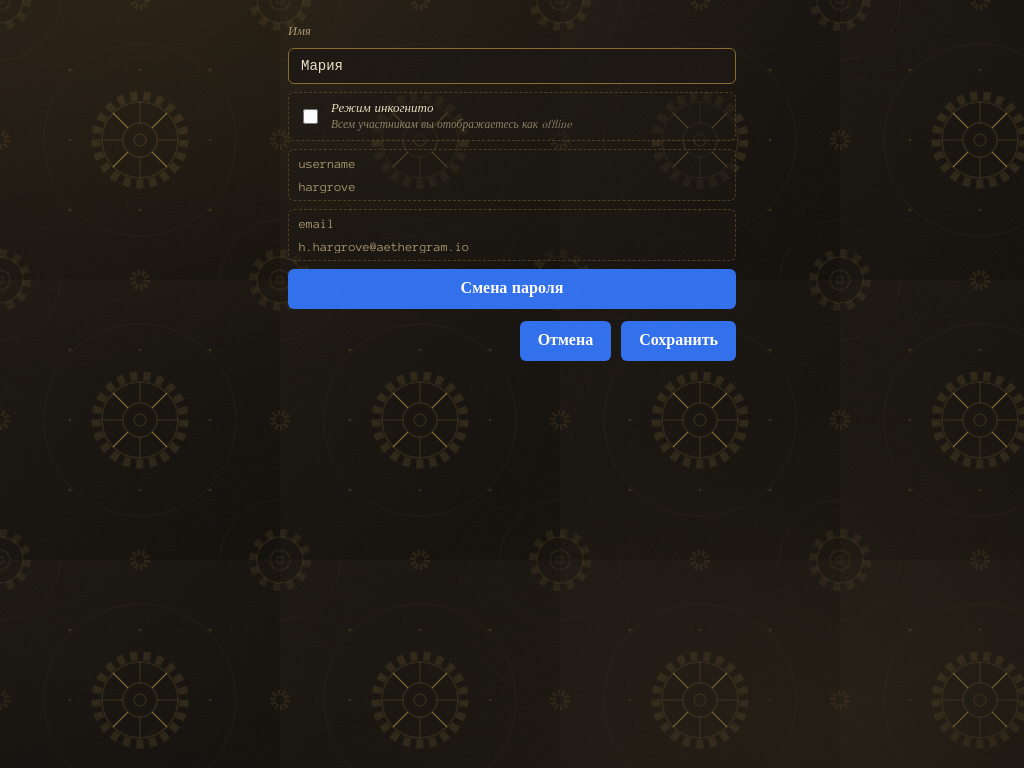
it: ProfileModal › saves №39 (name → null when cleared) and №38, toasts once with the chain name and closes
Clear the field labelled "Имя" at (512, 66), box [288, 48, 736, 84]
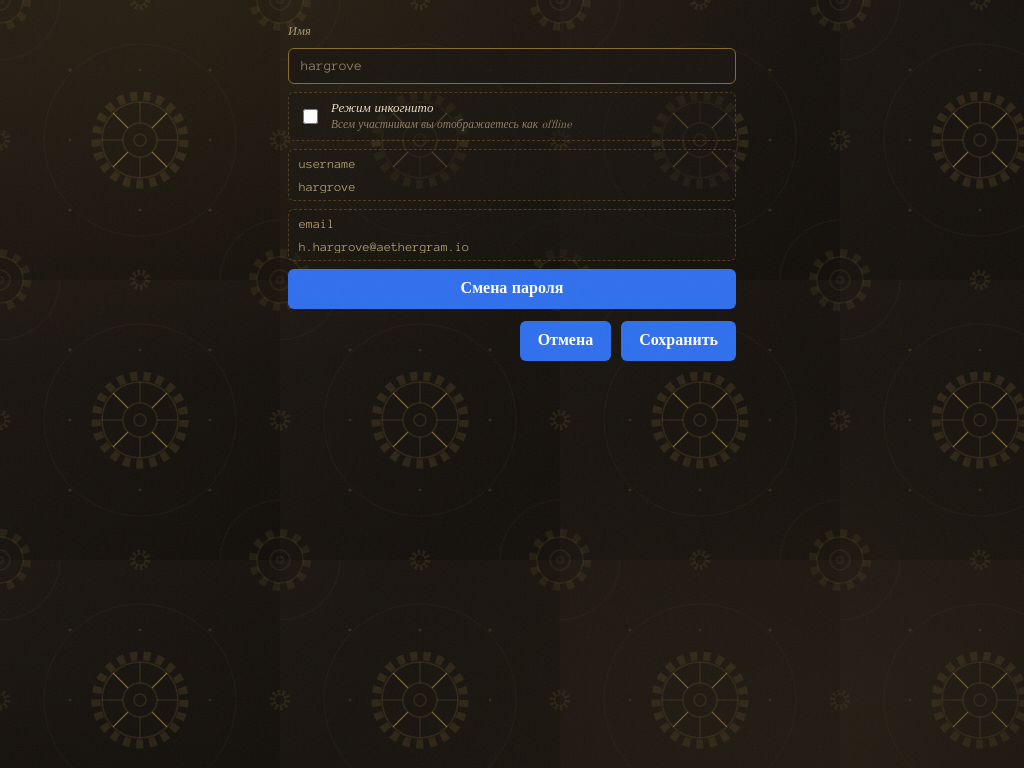
Click the checkbox labelled "Режим инкогнито Всем участникам вы отображаетесь как offline".
click(310, 116)  # box [303, 109, 318, 124]
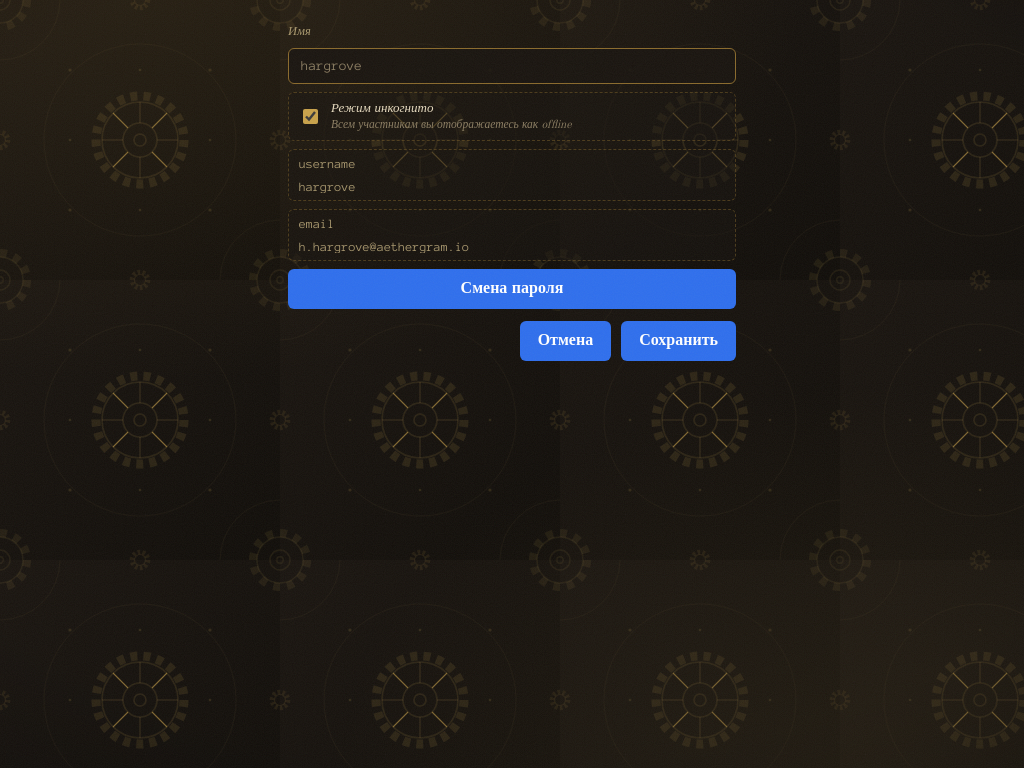
Click the button "Сохранить".
click(679, 341)  # box [621, 321, 736, 361]
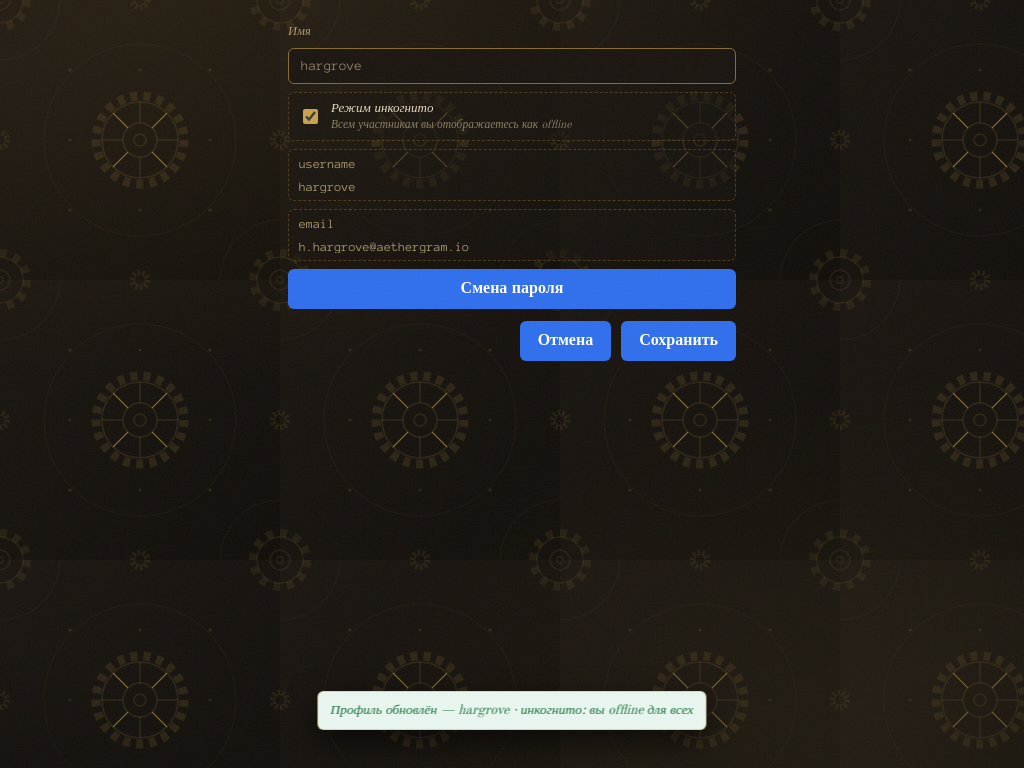
Result: the text "Профиль обновлён — hargrove · инкогнито: вы offline для всех" is shown at [317, 691, 706, 730]
